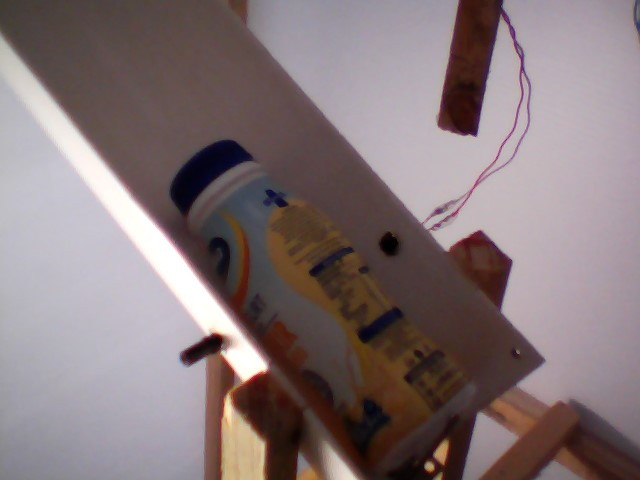plastico: (167, 134, 484, 480)
